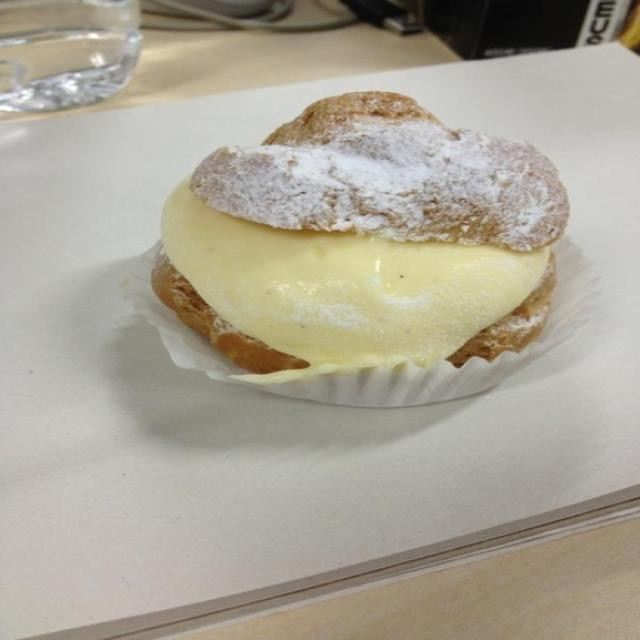炸货点心: (142, 61, 570, 431)
蛋糕甜品: (142, 61, 570, 431)
